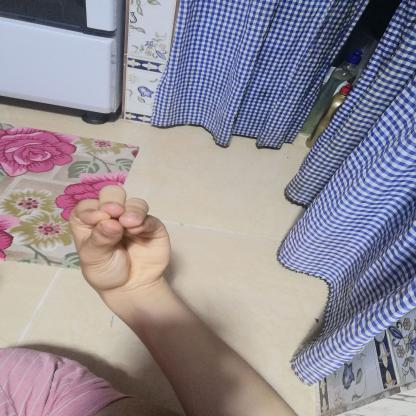HA: (51, 173, 191, 306)
